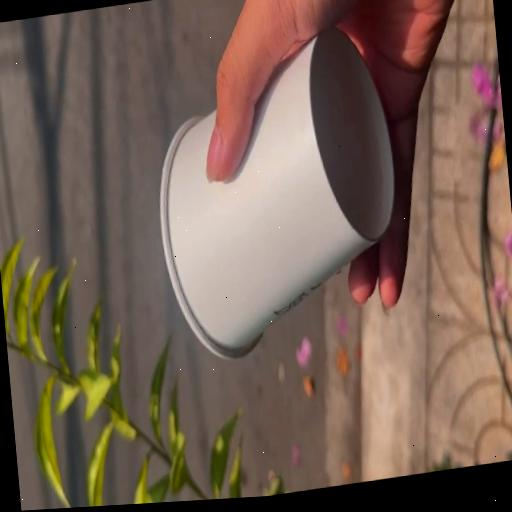Ly_giay: (161, 28, 394, 357)
